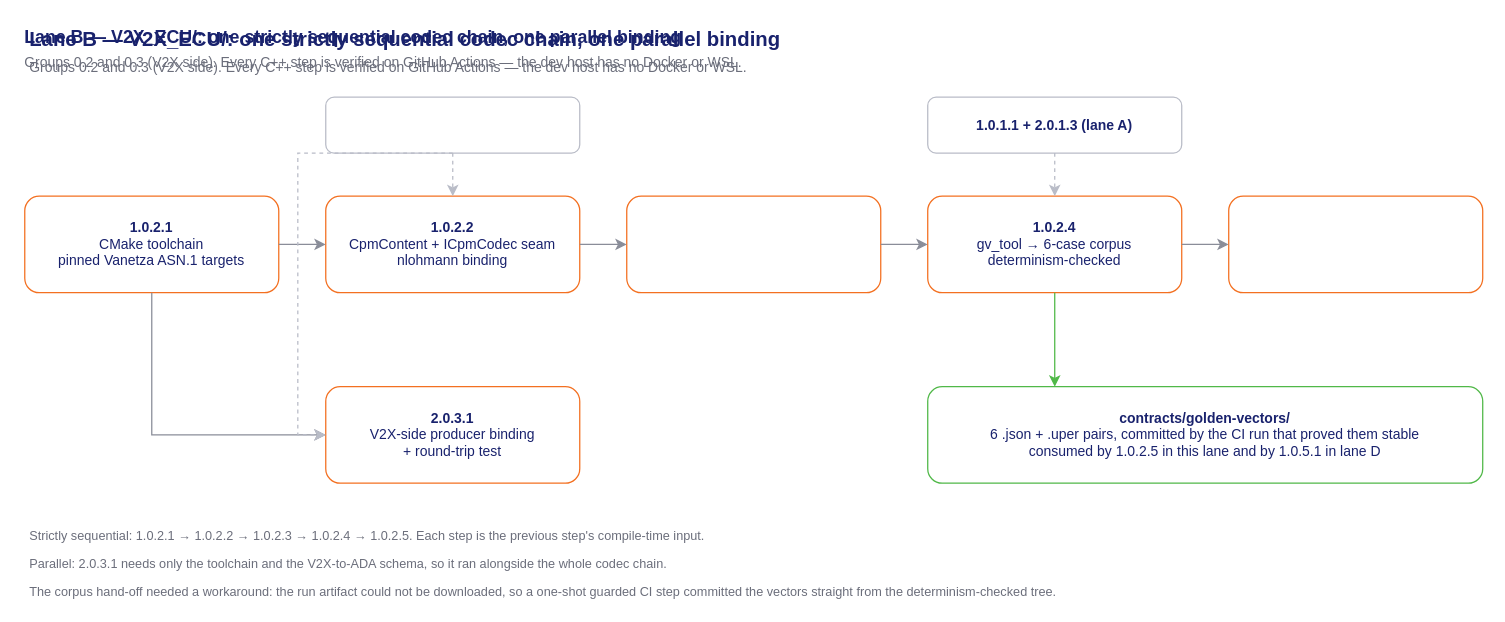
The diagram is 1505 pixels wide and 622 high, and some of its shapes have lost their labels. The centre of each missing label's shape, as x and y in pixels:
"1.0.1.2 (lane A)" belongs at point 452,124.
"1.0.2.3 VanetzaCpmCodec r2::Cpm only, F9 bounds" belongs at point 753,244.
"1.0.2.5 golden-vector codec test decode == .json, encode == .uper" belongs at point 1355,244.
